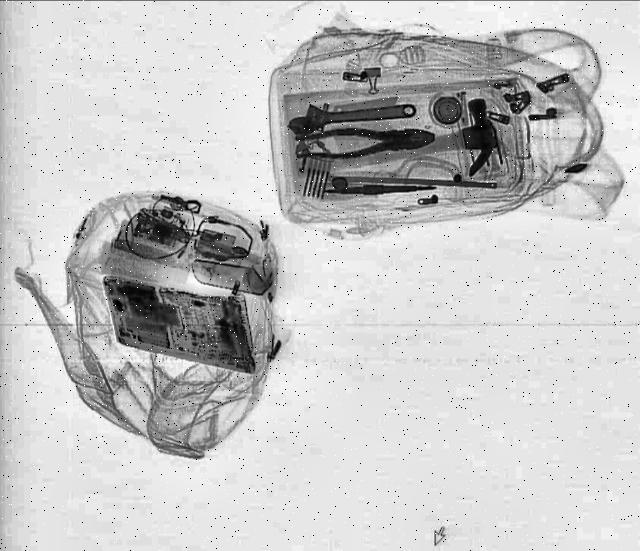Pliers: (292, 124, 436, 160)
Wrench: (284, 96, 416, 138)
